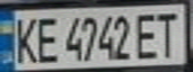2: (112, 11, 136, 61), (78, 11, 100, 62)
4: (60, 12, 84, 62), (97, 11, 118, 61)
E: (133, 9, 163, 61), (33, 12, 60, 64)
K: (9, 12, 39, 65)
T: (151, 8, 184, 59)
